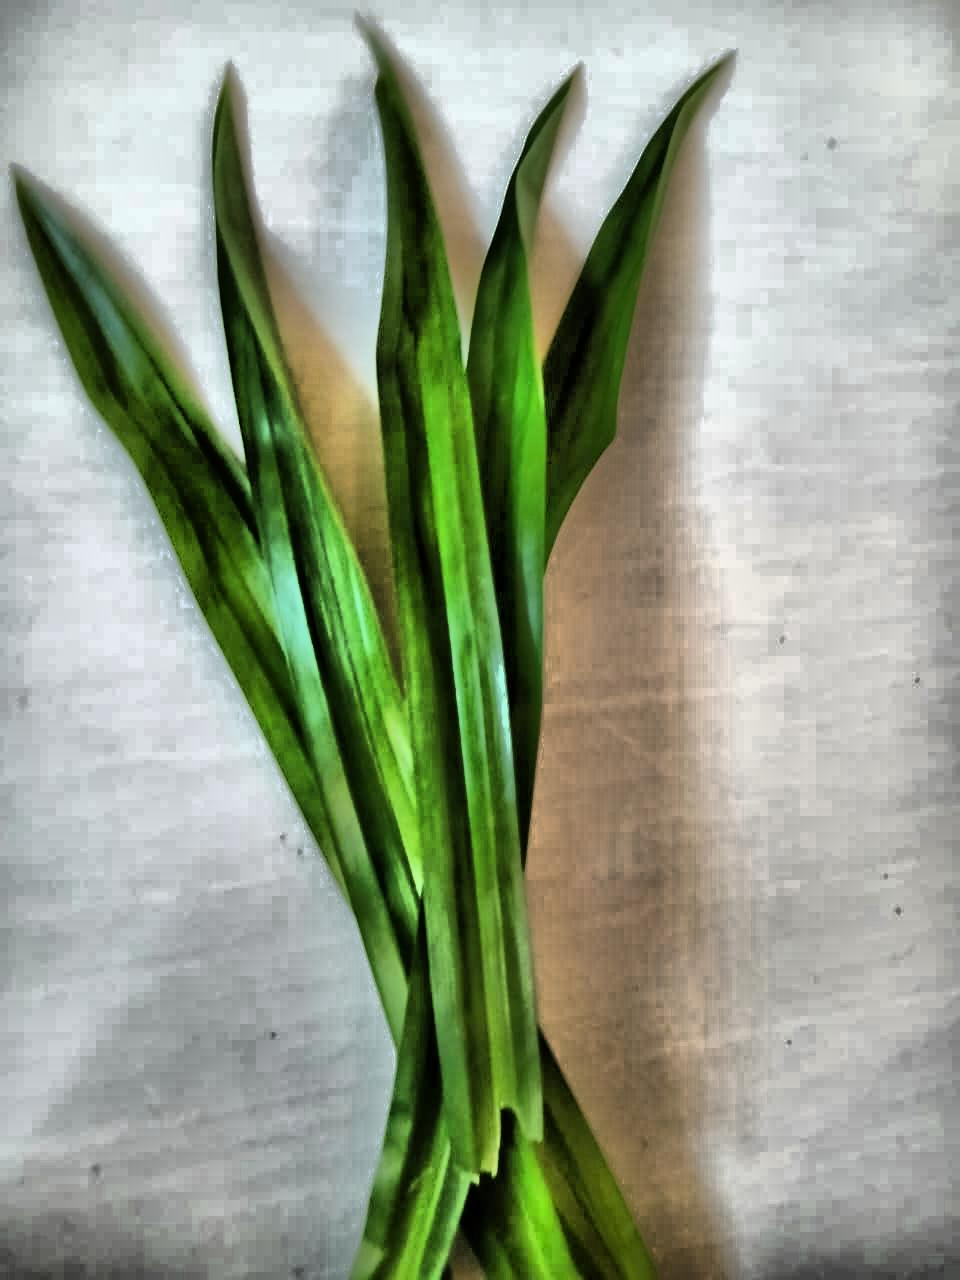daun pandan: (17, 34, 721, 1279)
